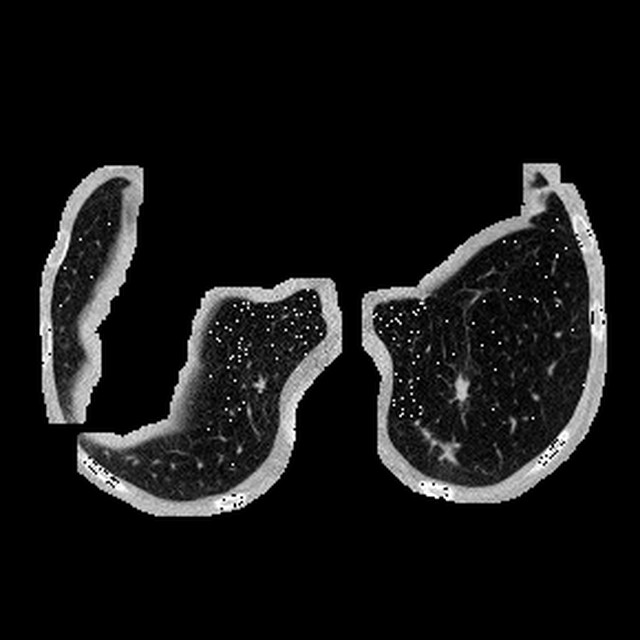PN: (448, 377, 474, 404)
